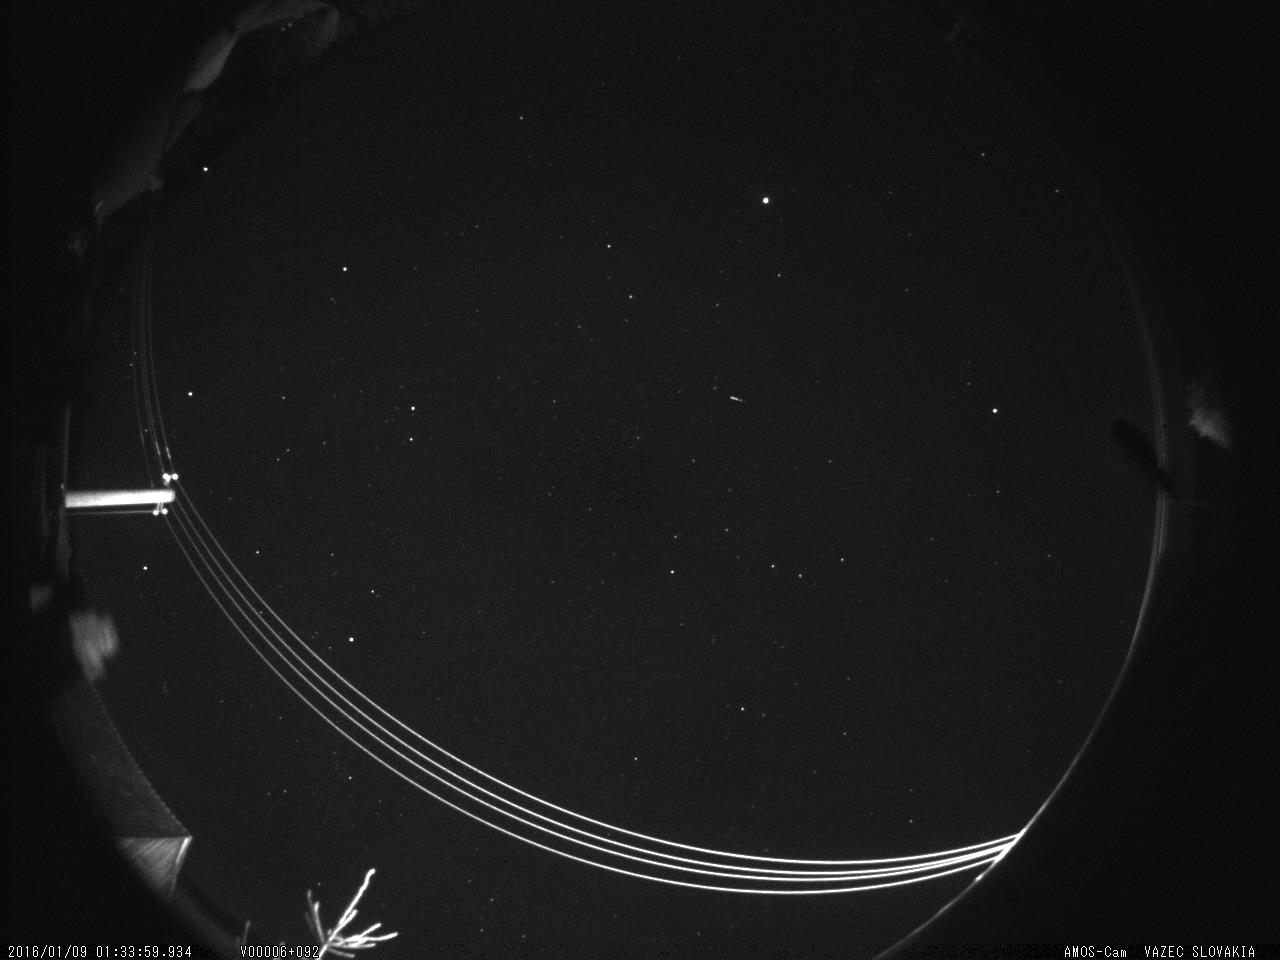meteor: (726, 392, 756, 407)
